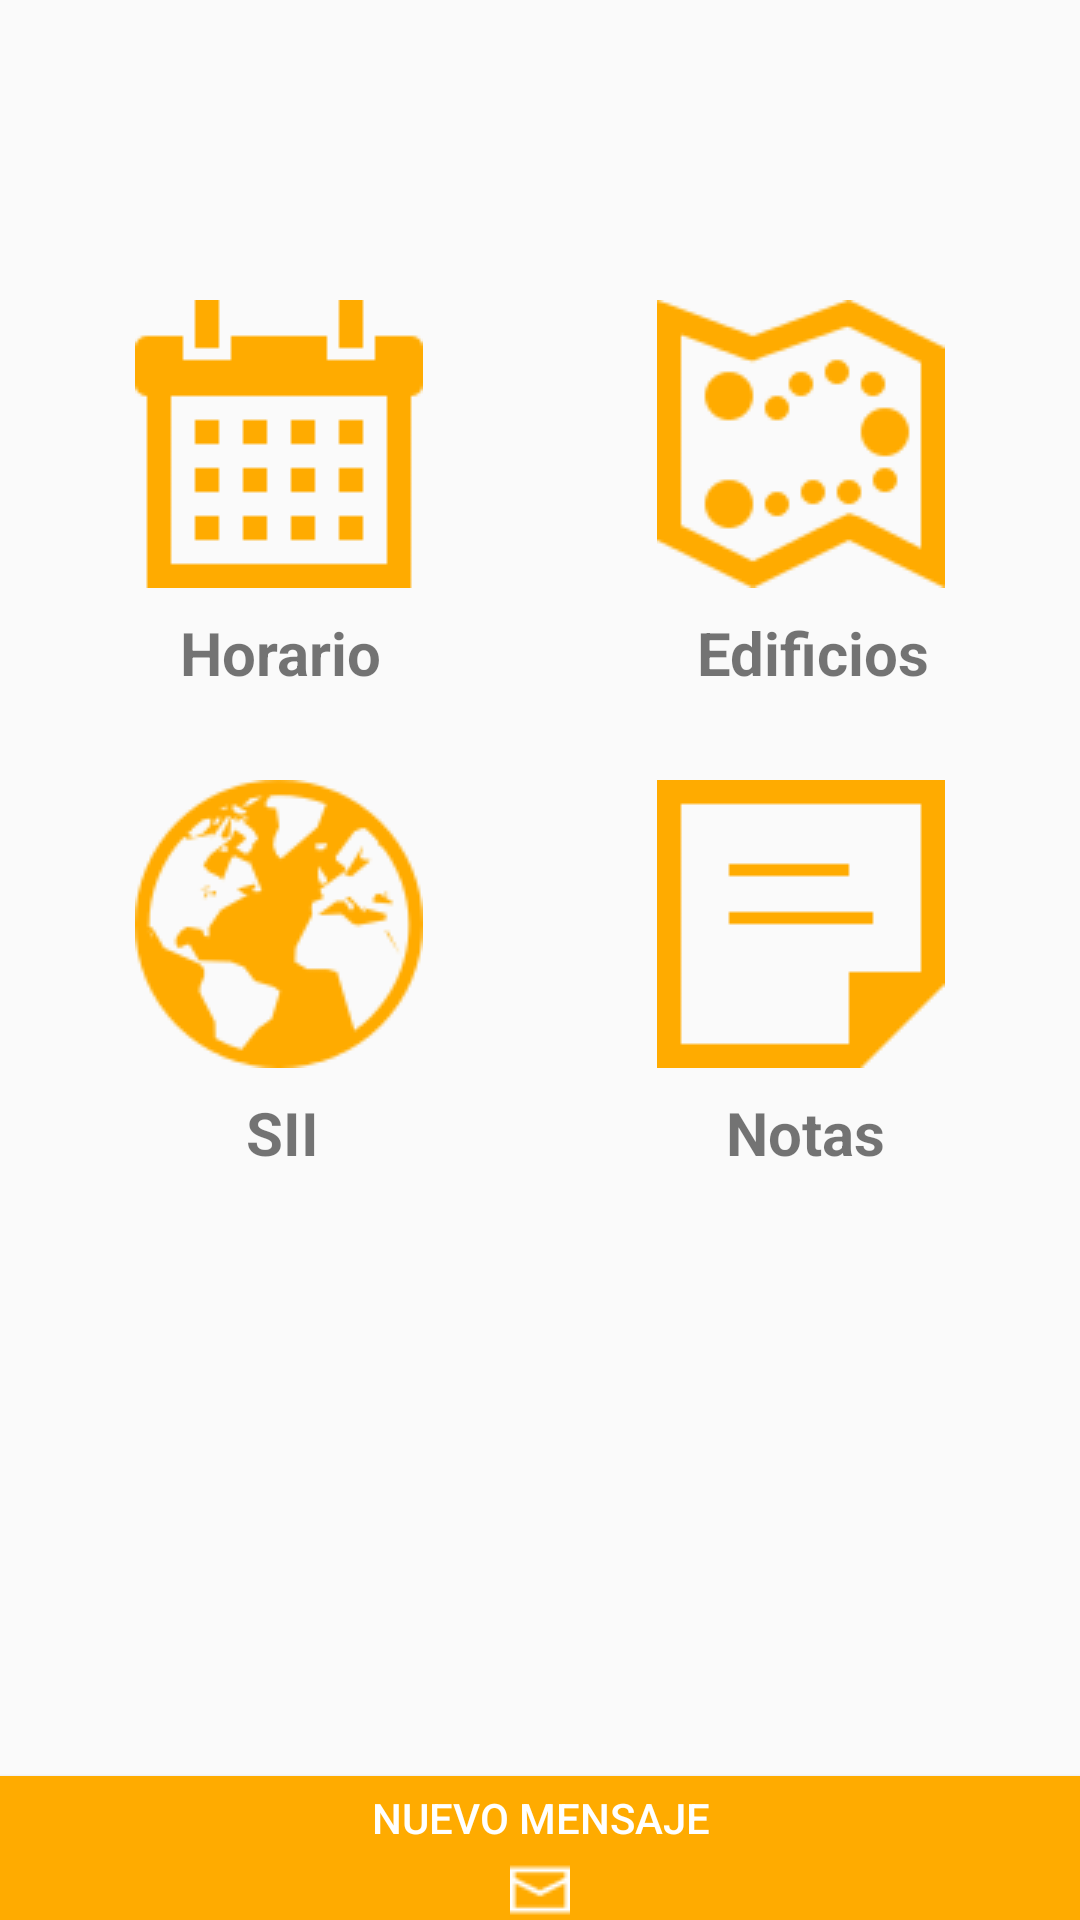

Icon click points for this 1080px×1920px phone screenshot, format (x,y):
localizacion: (801,444)
navegador: (279,924)
